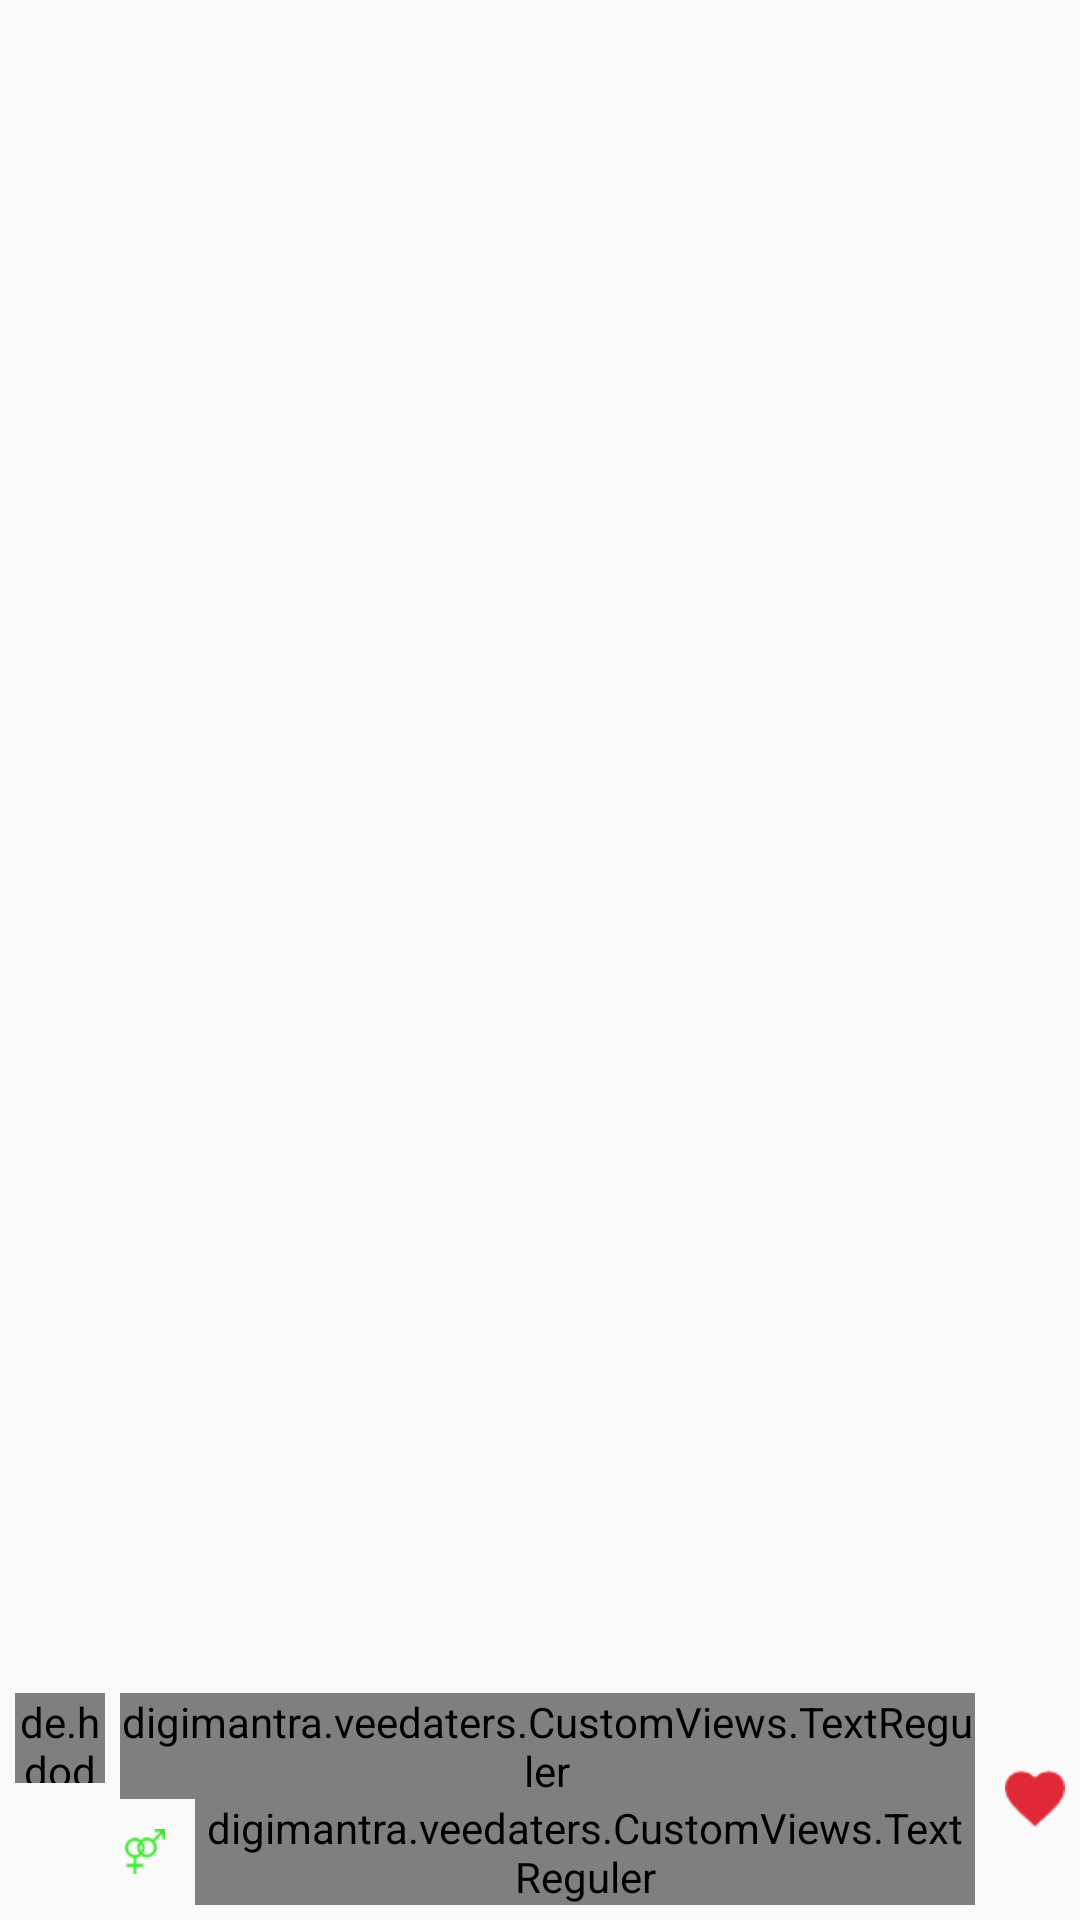

Named icons in this screenshot (1080w x 1920h) and their centers, point (x, y):
heart: point (1035, 1798)
undifiine: point (145, 1851)
